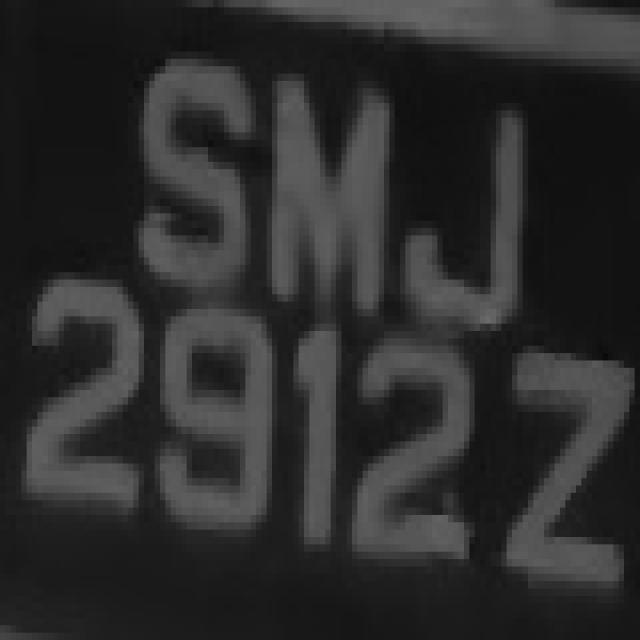1: (272, 324, 347, 574)
2: (341, 316, 480, 581), (32, 213, 139, 552)
9: (149, 287, 283, 544)
J: (400, 74, 539, 338)
M: (256, 66, 405, 331)
S: (128, 37, 251, 309)
Z: (480, 294, 635, 626)
